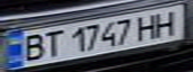1: (66, 25, 87, 53)
4: (100, 19, 121, 48)
7: (112, 16, 136, 45), (81, 21, 103, 52)
B: (15, 32, 48, 63)
H: (151, 8, 184, 38), (133, 11, 163, 40)
T: (39, 28, 66, 58)
